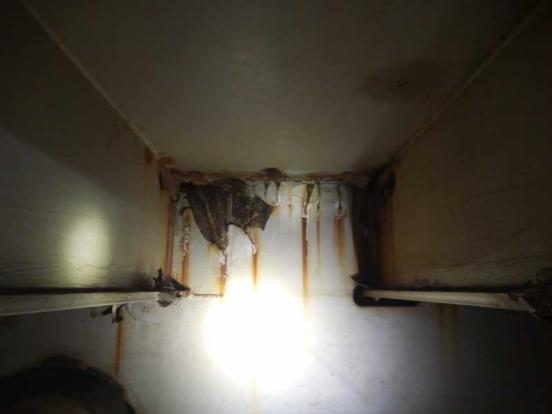corrosion: (168, 174, 285, 240), (282, 184, 319, 310), (163, 180, 190, 287), (326, 189, 355, 273), (104, 295, 127, 377), (236, 244, 265, 302), (206, 249, 236, 298)
